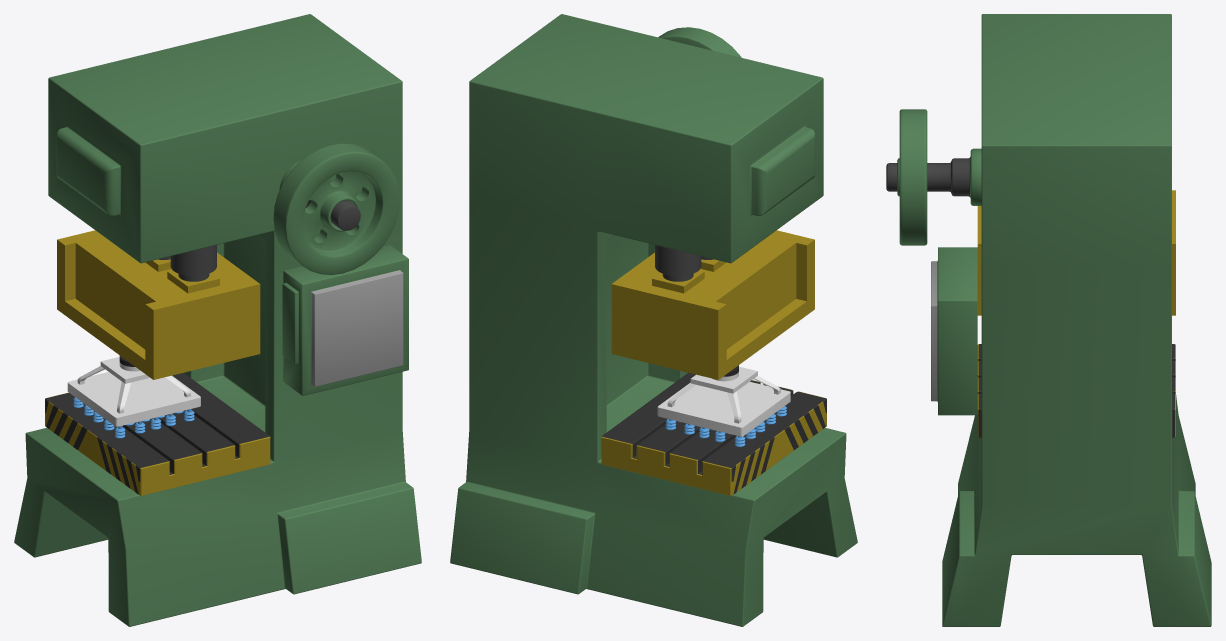
Rendered from Stamp Press V1.fbx.
The picture shows the model from 3 angles, left to right: view 1: azimuth 30°, elevation 25°; view 2: azimuth 150°, elevation 25°; view 3: azimuth 270°, elevation 25°; orthographic projection. The views are drawn at different scales.
Visible parts, largest first — view 1: Frame, Ram, Electrical Box, Bed and Bolster, Cylinder.016, Pick and place effector, Guideway.002, Cylinder.015; view 2: Frame, Ram, Bed and Bolster, Pick and place effector, Cylinder.016, Guideway; view 3: Frame, Electrical Box, Cylinder.016, Cylinder.015, Ram, Bed and Bolster.
Part boxes in pixels (x1,y1,x2,y2): Frame: [14, 14, 421, 626]; Ram: [57, 230, 260, 379]; Electrical Box: [282, 245, 408, 395]; Bed and Bolster: [45, 373, 270, 495]; Cylinder.016: [273, 143, 399, 274]; Pick and place effector: [67, 355, 200, 438]; Guideway.002: [170, 245, 216, 275]; Cylinder.015: [279, 161, 360, 230]; Frame: [450, 14, 857, 626]; Ram: [611, 230, 814, 379]; Bed and Bolster: [601, 373, 826, 495]; Pick and place effector: [657, 365, 790, 446]; Cylinder.016: [658, 27, 741, 57]; Guideway: [655, 245, 701, 275]; Frame: [942, 14, 1211, 626]; Electrical Box: [931, 247, 977, 415]; Cylinder.016: [897, 109, 927, 245]; Cylinder.015: [886, 148, 981, 205]; Ram: [977, 190, 1175, 315]; Bed and Bolster: [977, 344, 1175, 437].
Bounding box in the file's own units: 214 × 335 × 205.
